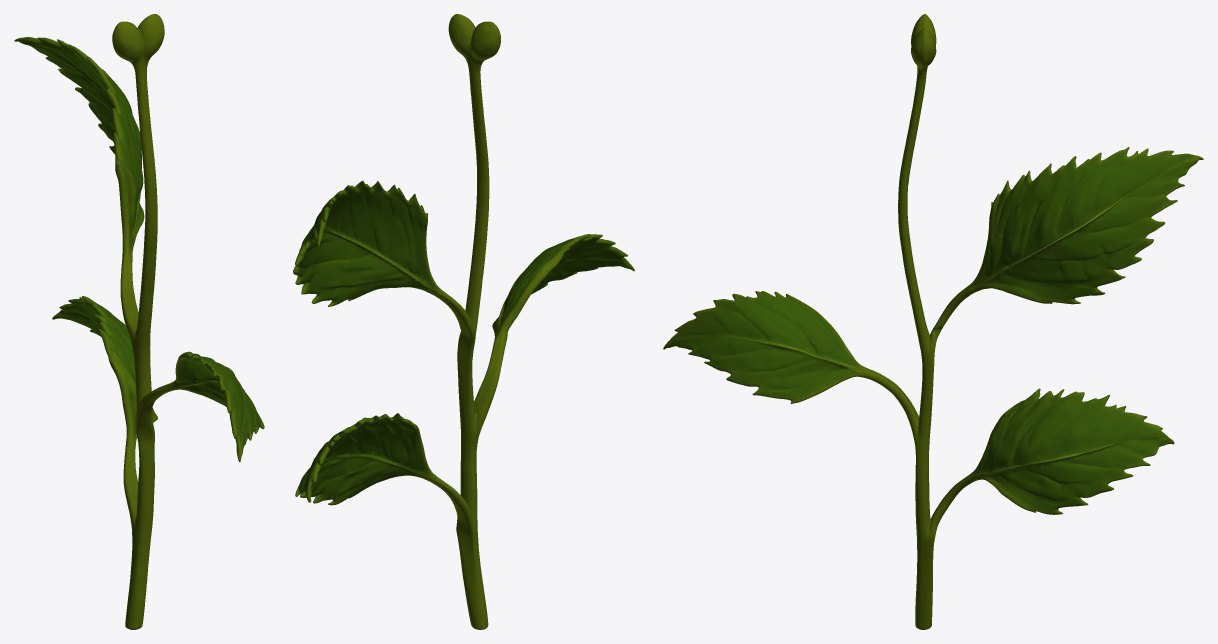
File: plant 3d model_opt.glb
3 views of the same model, side by side, from view 1: azimuth 30°, elevation 25°; view 2: azimuth 150°, elevation 25°; view 3: azimuth 270°, elevation 25° (orthographic).
Parts seen in each view (by area): view 1: tripo_node_5f5c246a-f2ad-4953-ab18-cecc4834929d; view 2: tripo_node_5f5c246a-f2ad-4953-ab18-cecc4834929d; view 3: tripo_node_5f5c246a-f2ad-4953-ab18-cecc4834929d.
Part boxes in pixels (<box>): tripo_node_5f5c246a-f2ad-4953-ab18-cecc4834929d: <box>14,14,264,629</box>; tripo_node_5f5c246a-f2ad-4953-ab18-cecc4834929d: <box>293,14,634,629</box>; tripo_node_5f5c246a-f2ad-4953-ab18-cecc4834929d: <box>663,14,1203,629</box>.
Size of the model in its own units: 0.1898 by 1 by 0.8071.
1 material, 1 textured.
